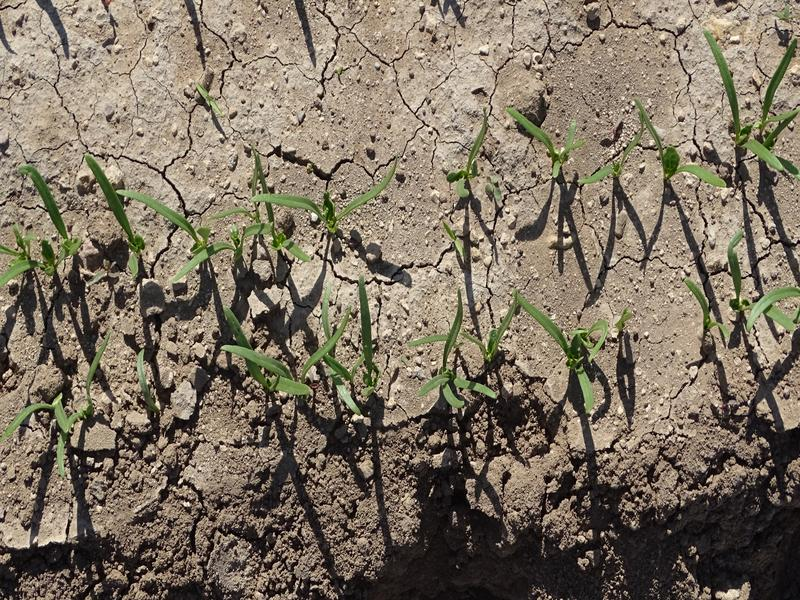Espinaca: (1, 155, 406, 293), (509, 37, 797, 189), (425, 292, 617, 415), (221, 298, 391, 409), (12, 345, 155, 466), (683, 234, 796, 333), (448, 116, 493, 201)
